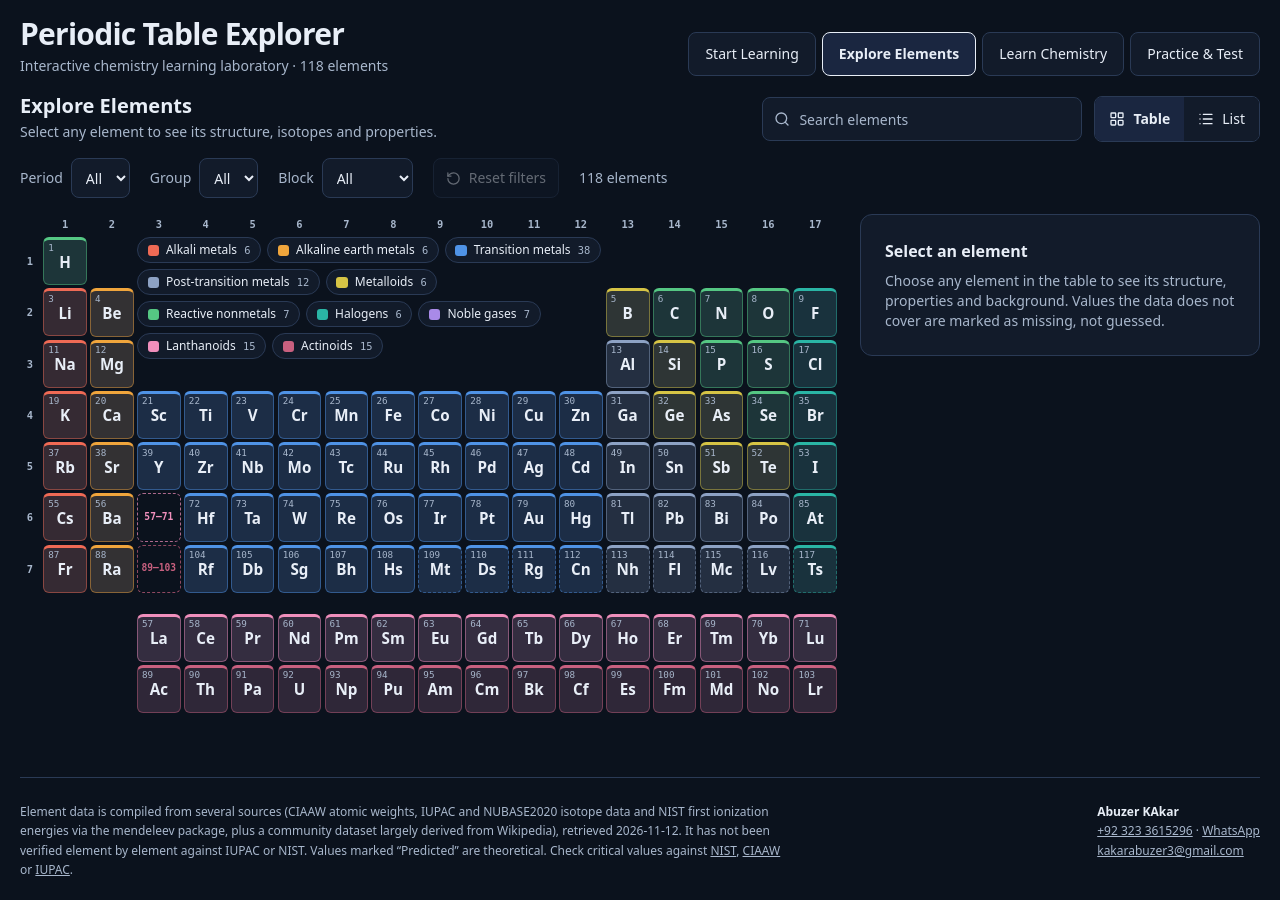
it: list view › lists every element and respects filters
Click the button "List" at (1222, 119), box [1184,97,1259,141]
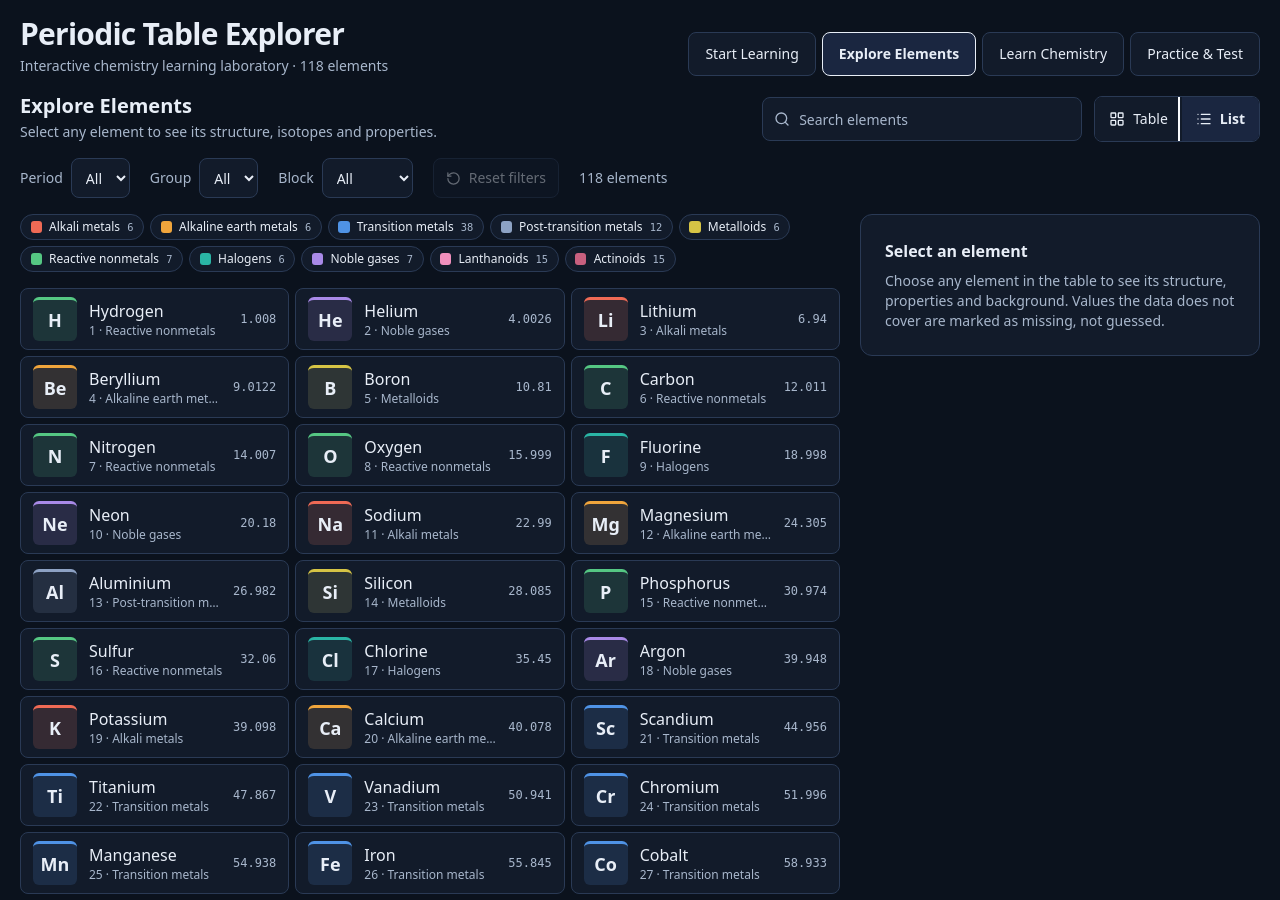
Click the button "Halogens 6" at (242, 259), box [189,246,295,272]
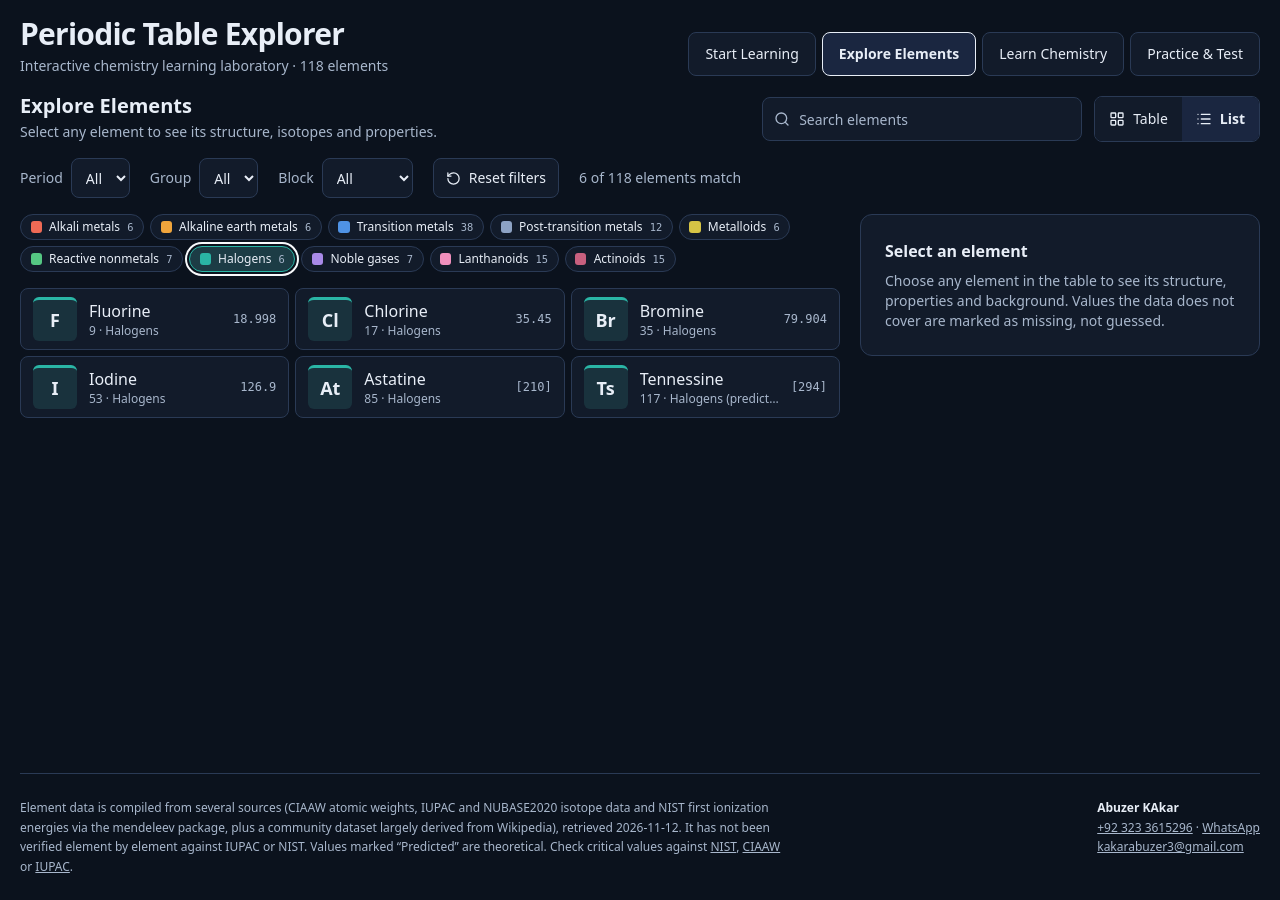
Click the button "Reset filters" at (496, 178), box [433,158,559,198]
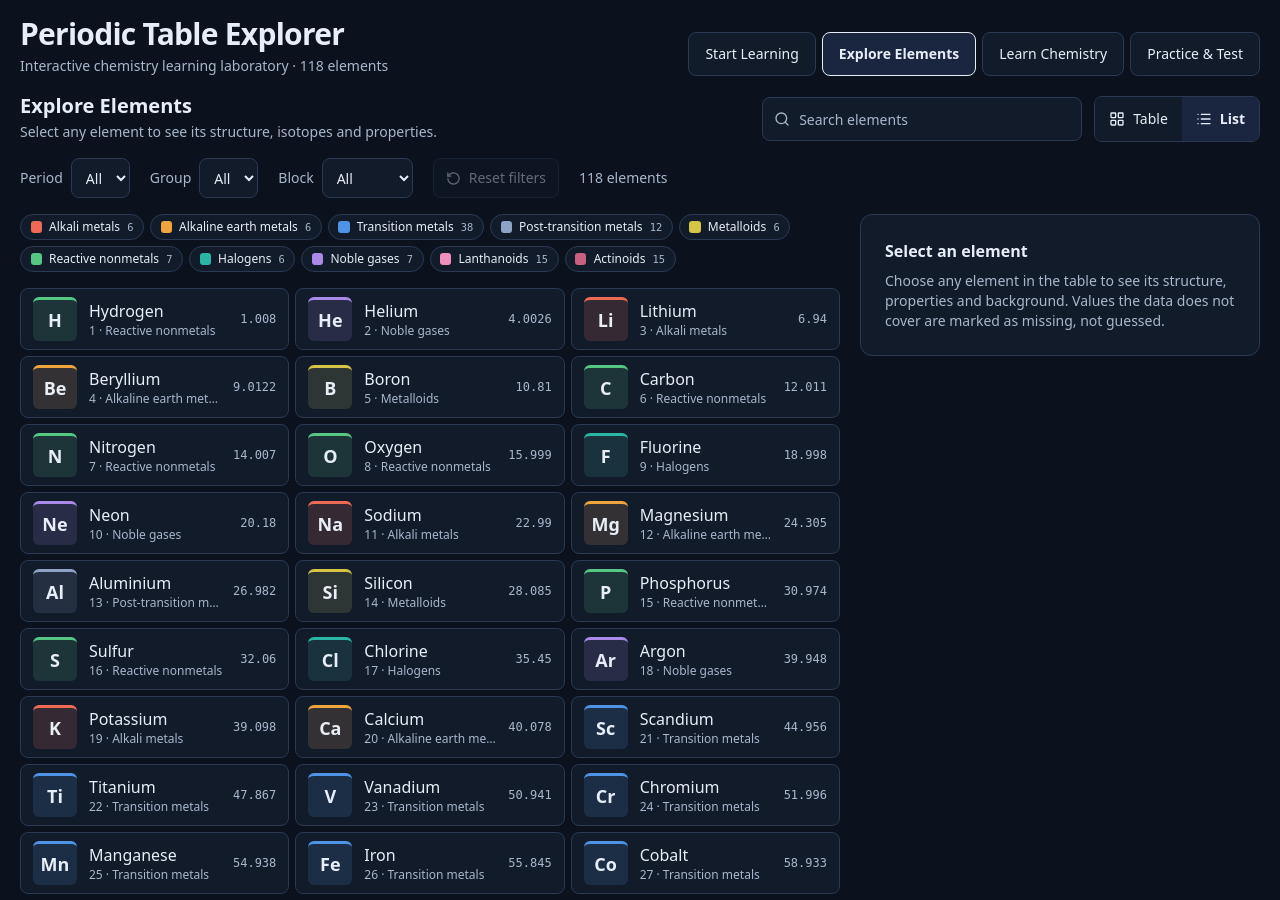
Type "ium" into the search field at (922, 119), box [762,97,1082,141]
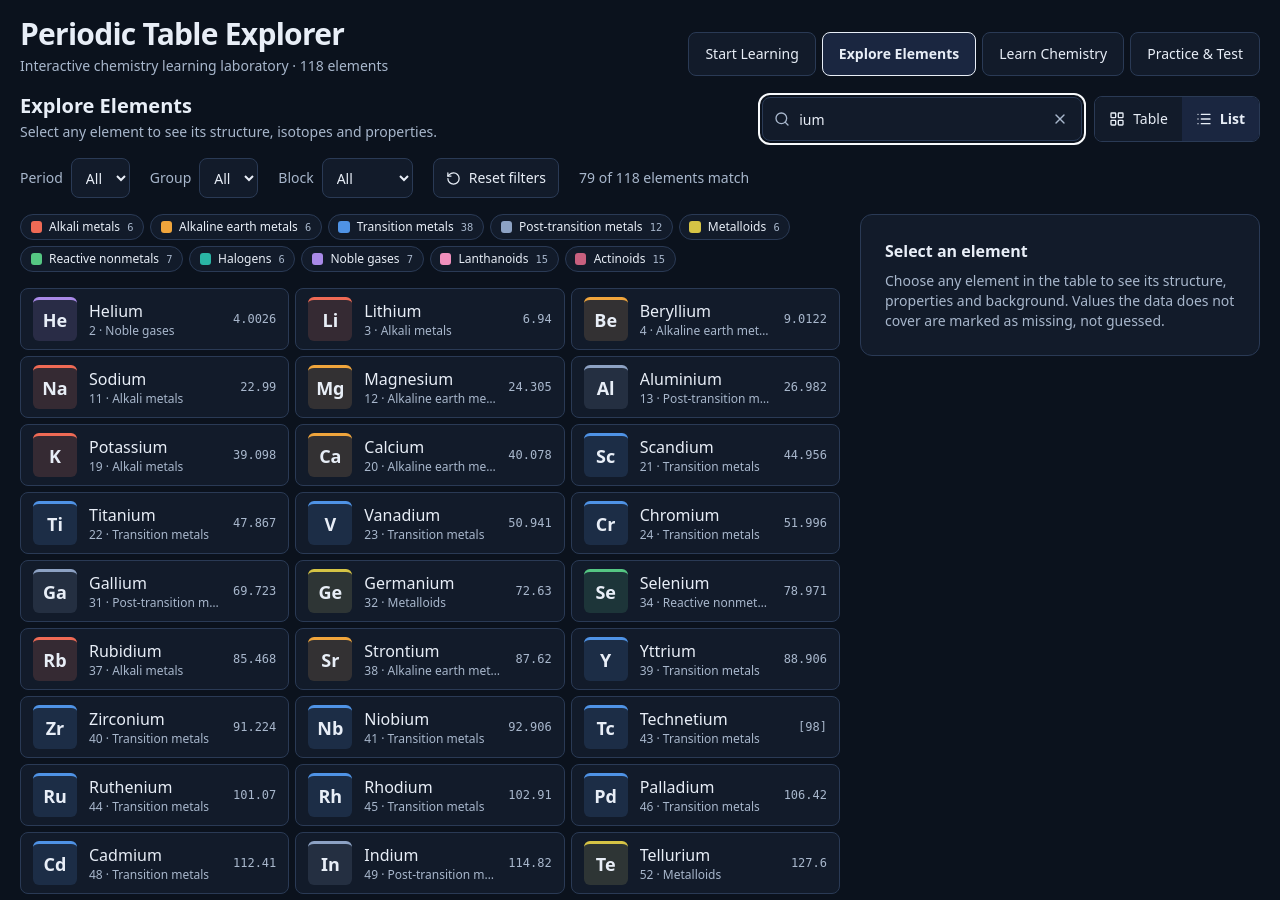
Type "zzz" into the search field at (922, 119), box [762,97,1082,141]
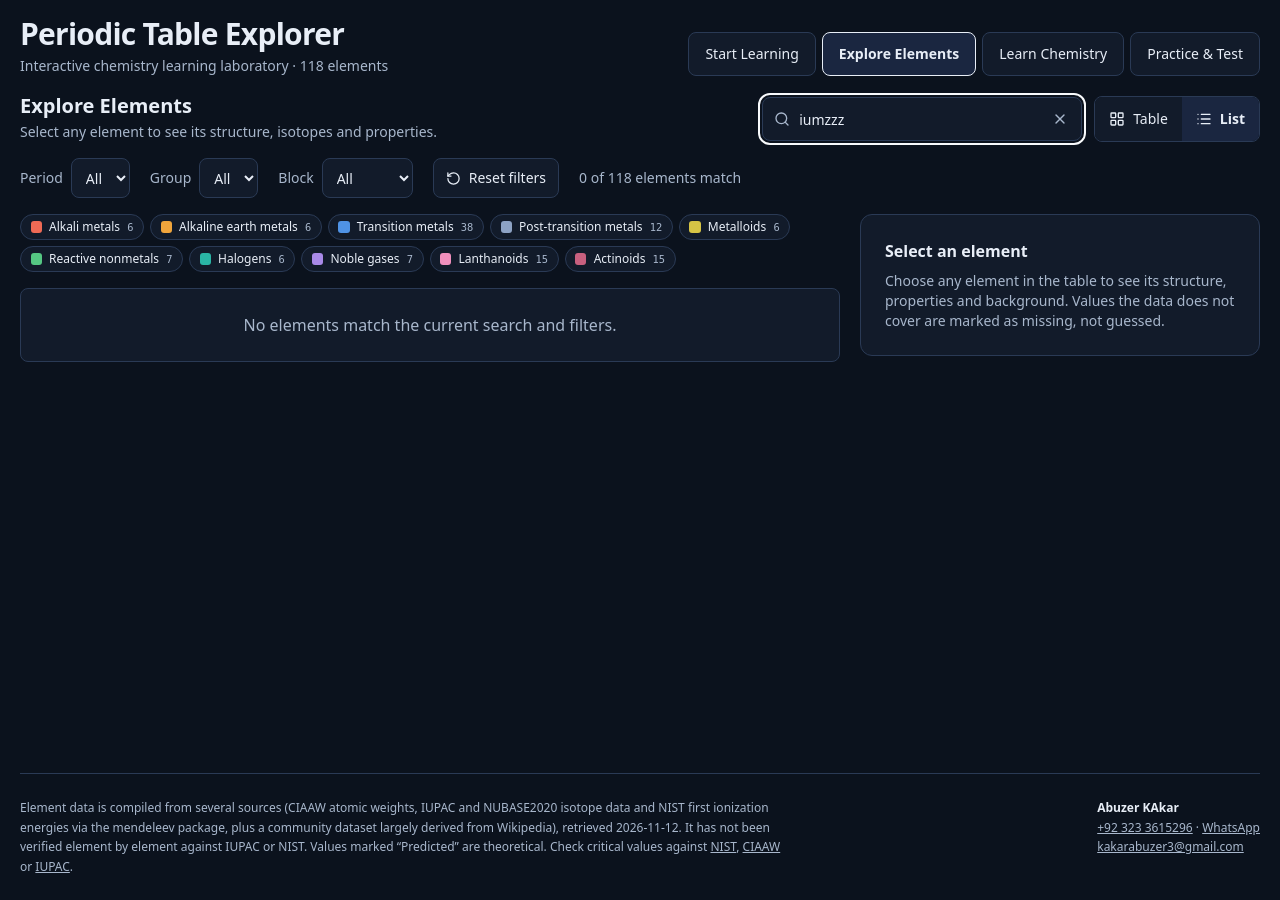
Result: the text "No elements match the current search and filters." is shown at [20,288,840,362]
